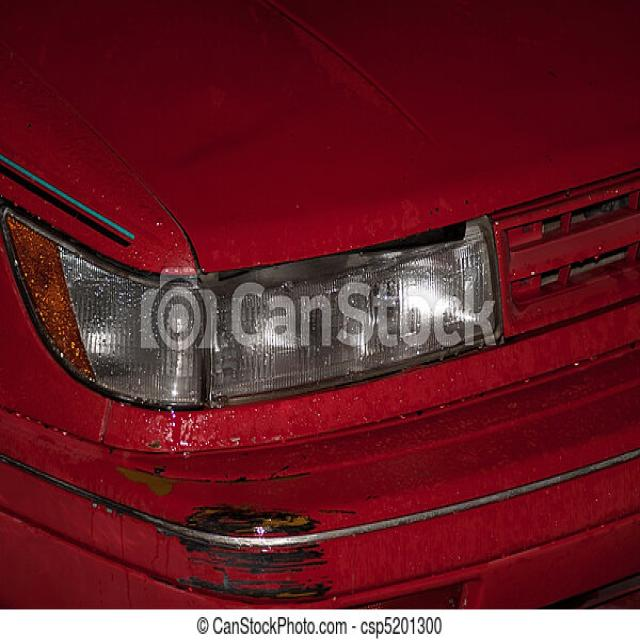scratch: (0, 448, 360, 604)
